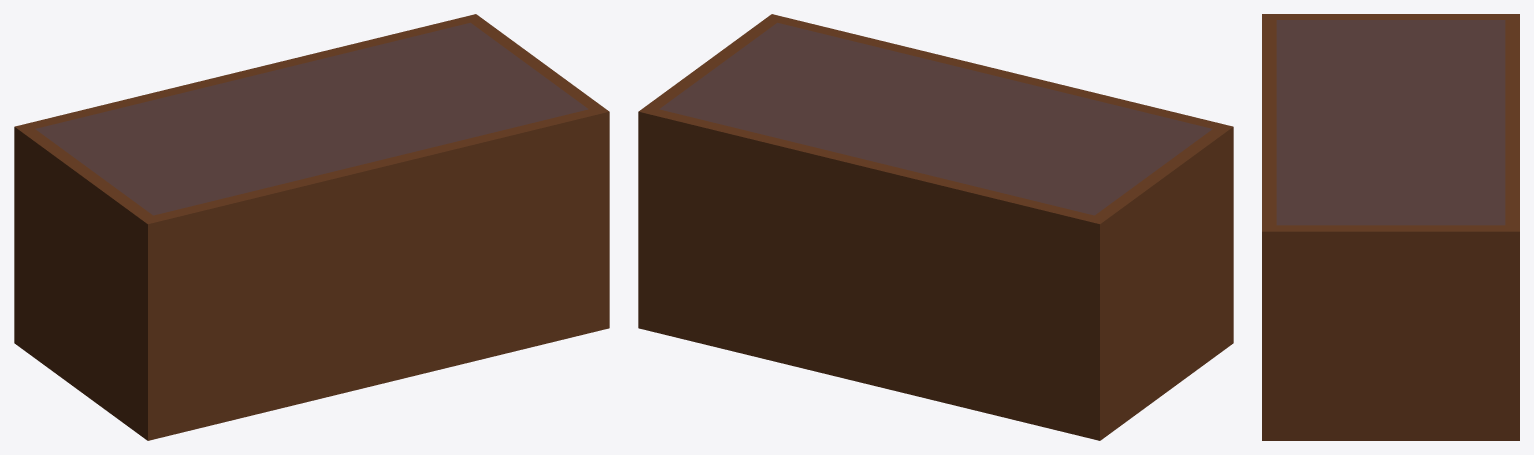
Rendered from Res01_ManagerRoomTable1.fbx.
3 renders of one model, left to right at view 1: azimuth 30°, elevation 25°; view 2: azimuth 150°, elevation 25°; view 3: azimuth 270°, elevation 25°, orthographic. The views are drawn at different scales.
Visible parts, largest first — view 1: Res01_ManagerRoomTable1; view 2: Res01_ManagerRoomTable1; view 3: Res01_ManagerRoomTable1.
Boxes of the visible parts, x1,y1,x2,y2 form: Res01_ManagerRoomTable1: (14,14,609,440); Res01_ManagerRoomTable1: (638,14,1233,440); Res01_ManagerRoomTable1: (1262,14,1519,440).
Bounding box in the file's own units: 200 × 89.7 × 100.
